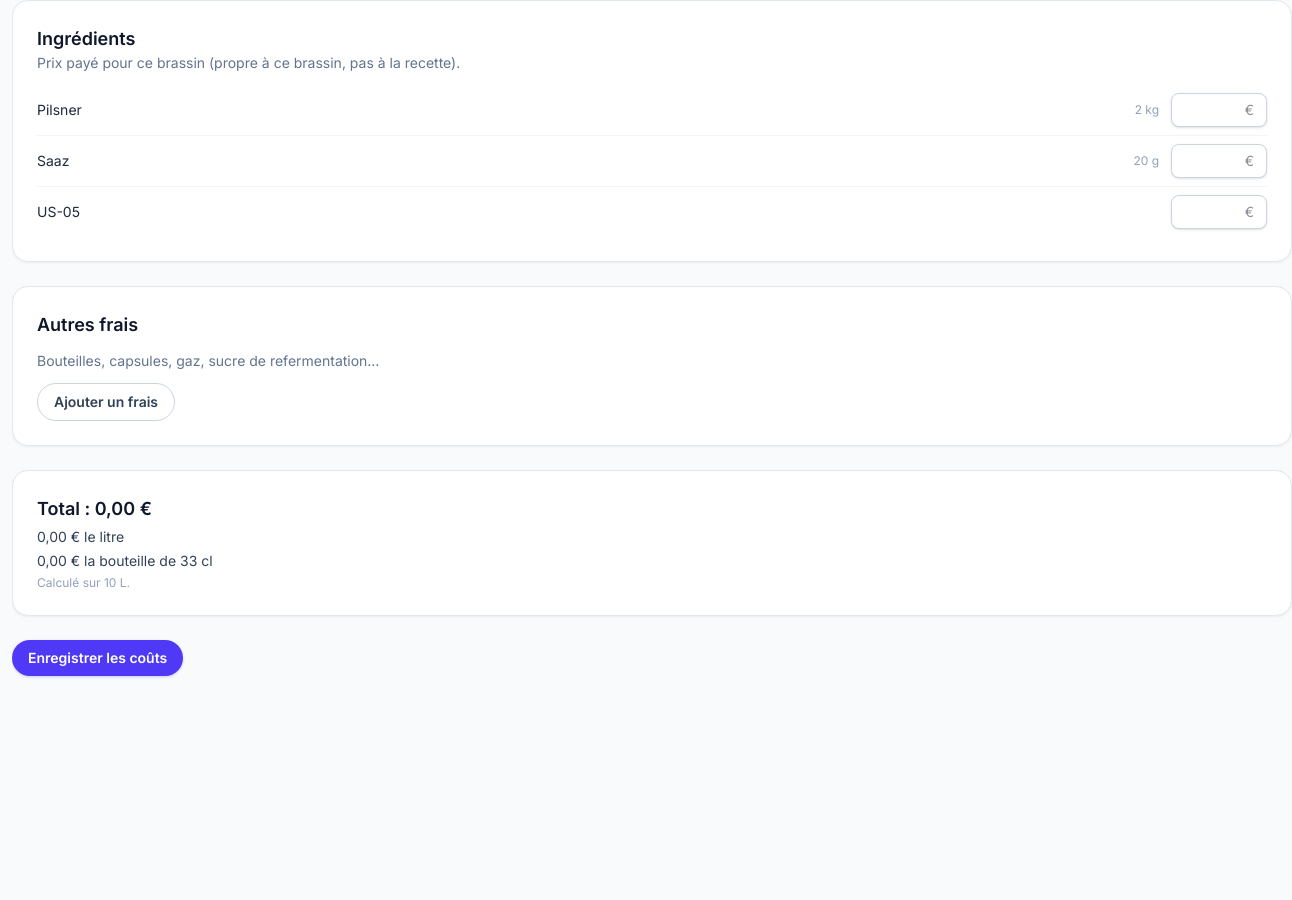
Test: BatchCost › calcule total, coût au litre et à la bouteille de 33 cl sur le volume de la recette à défaut de mesure
In the field named "Prix de Pilsner": (1219, 110) [1171, 93, 1267, 127], type "5"
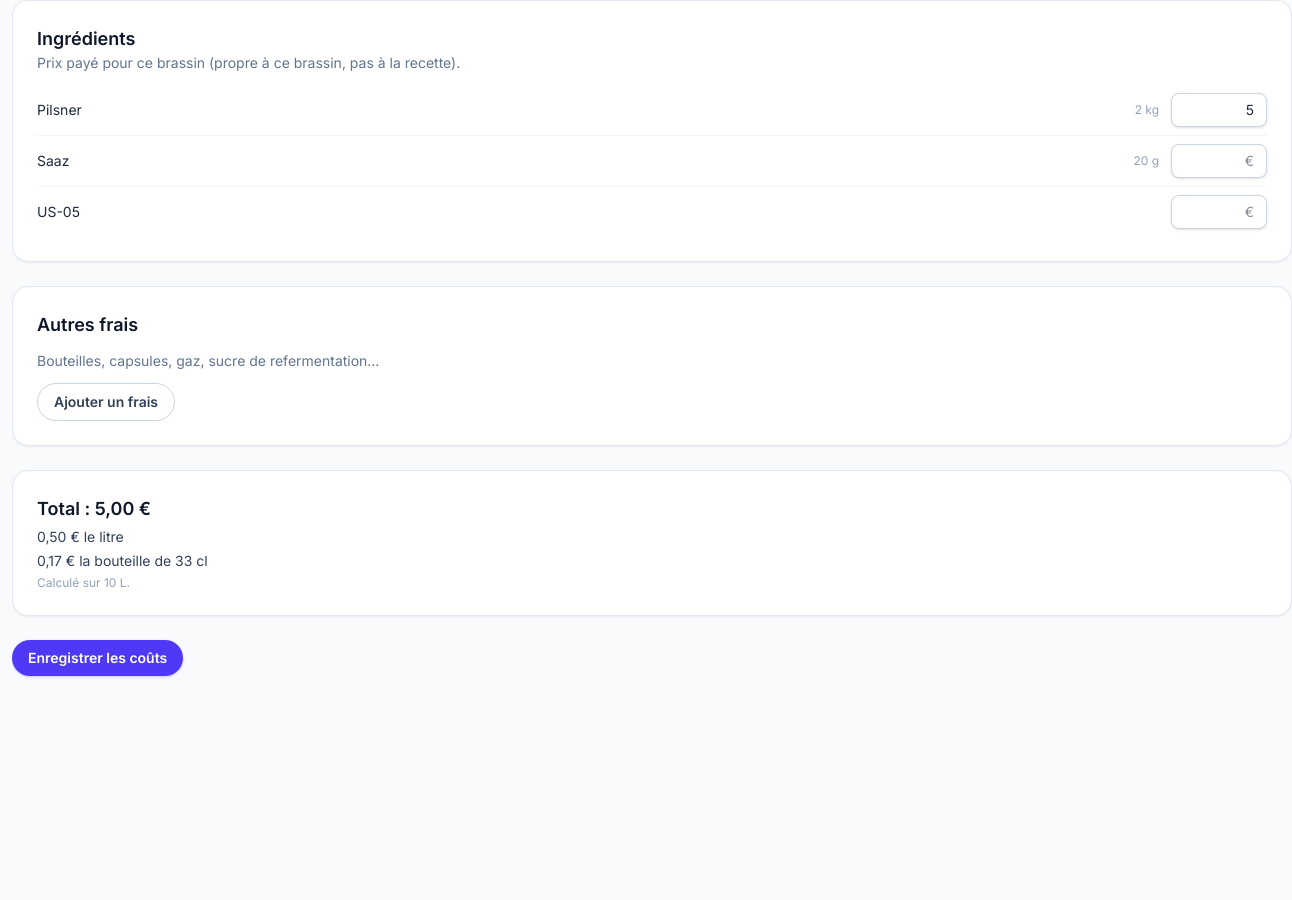
In the field named "Prix de Saaz": (1219, 161) [1171, 144, 1267, 178], type "3"
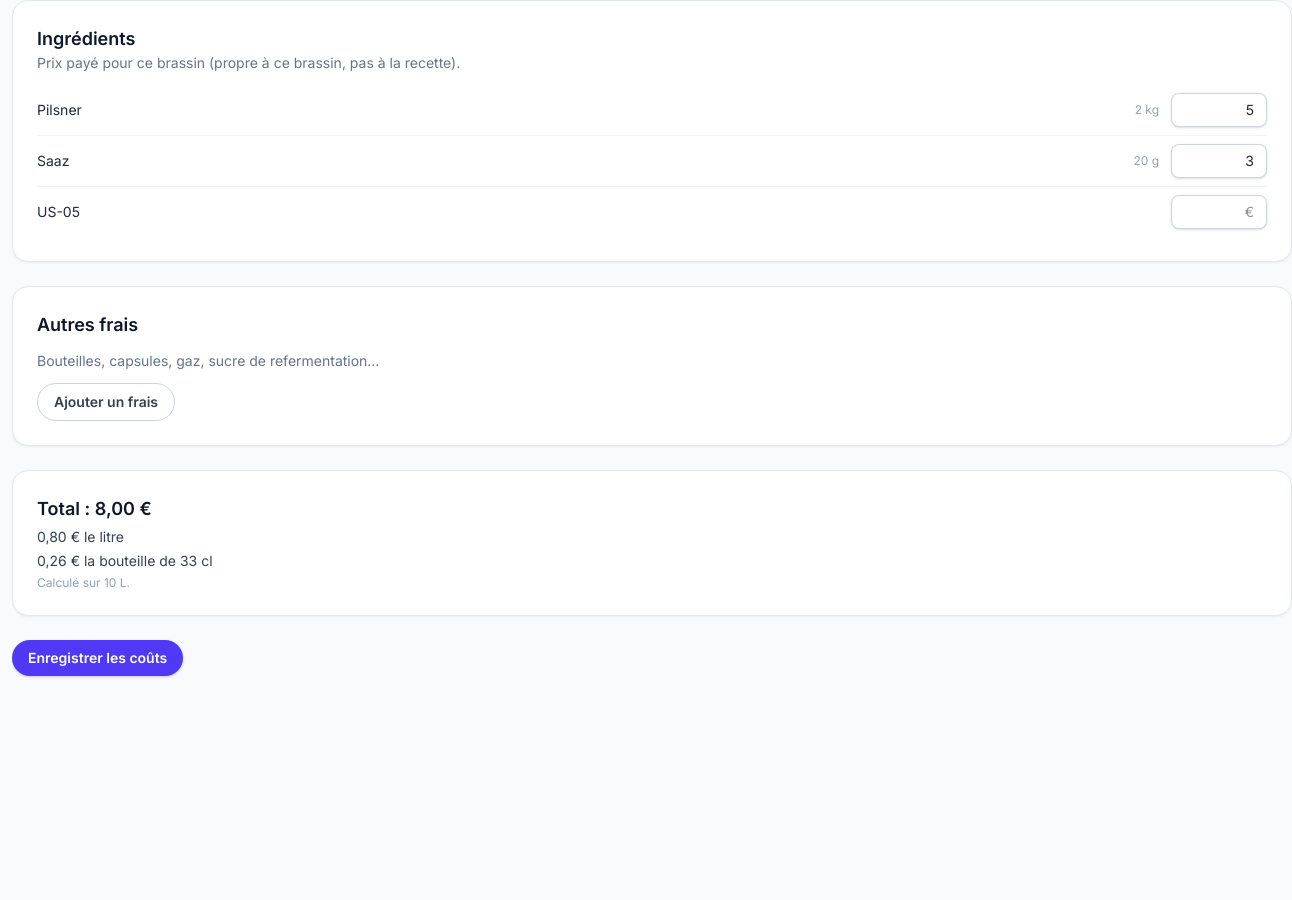
Expected: the text "Total : 8,00 €" is shown, [37, 498, 152, 519]
Expected: the text "0,80 € le litre" is shown, [37, 528, 124, 545]
Expected: the text "0,26 € la bouteille de 33 cl" is shown, [37, 552, 212, 569]
